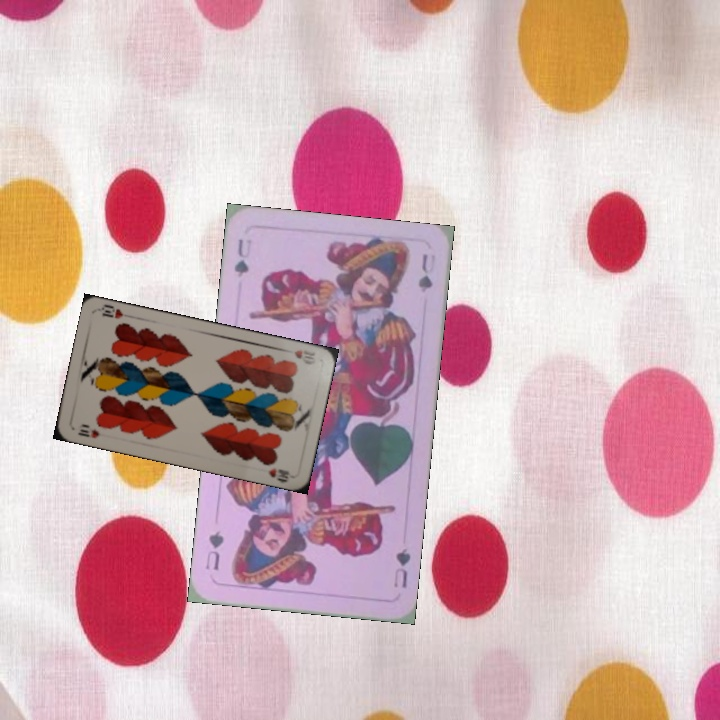GU: (230, 234, 255, 280), (389, 544, 413, 591)
H10: (290, 346, 318, 362), (74, 425, 102, 441)
